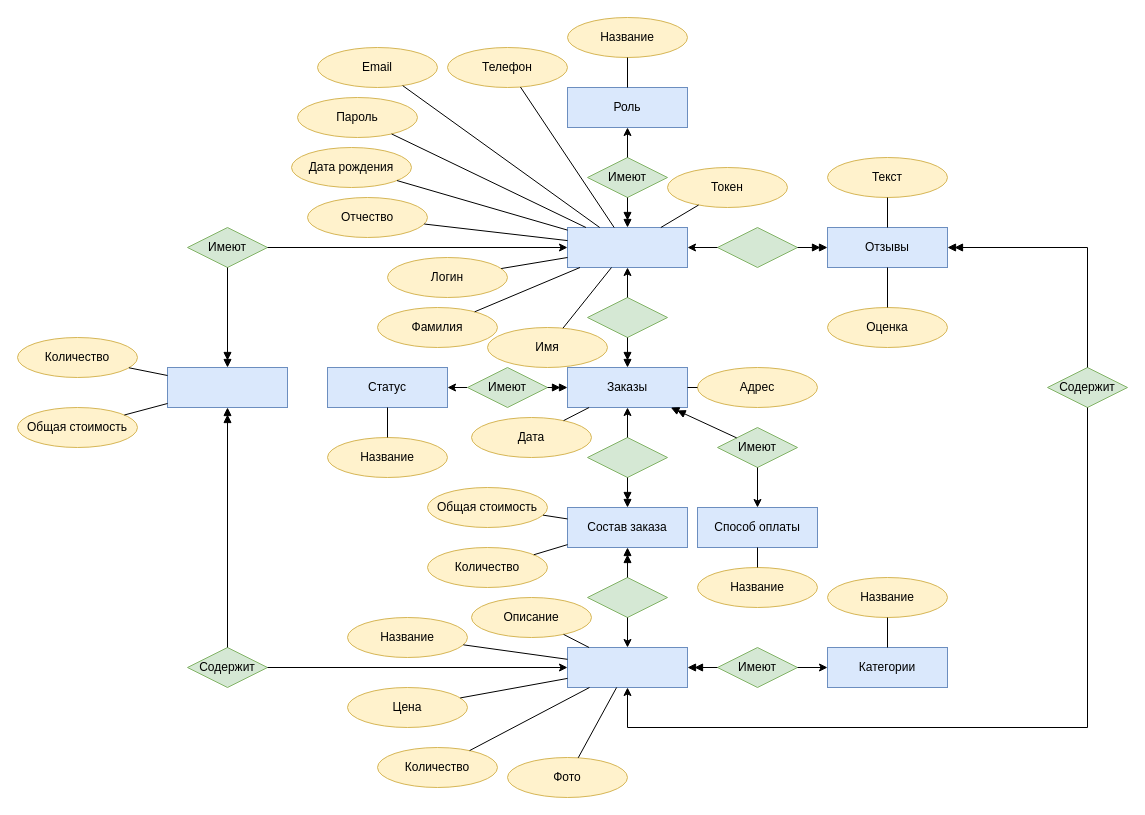
This 1145x815 diagram has some shape labels left out. The centre of each missing label's shape, as x and y in pixels:
Входит: point (627, 457)
Делают: point (627, 317)
Имеет: point (627, 597)
Корзина: point (227, 387)
Оставляют: point (757, 247)
Пользователи: point (627, 247)
Товары: point (627, 667)
